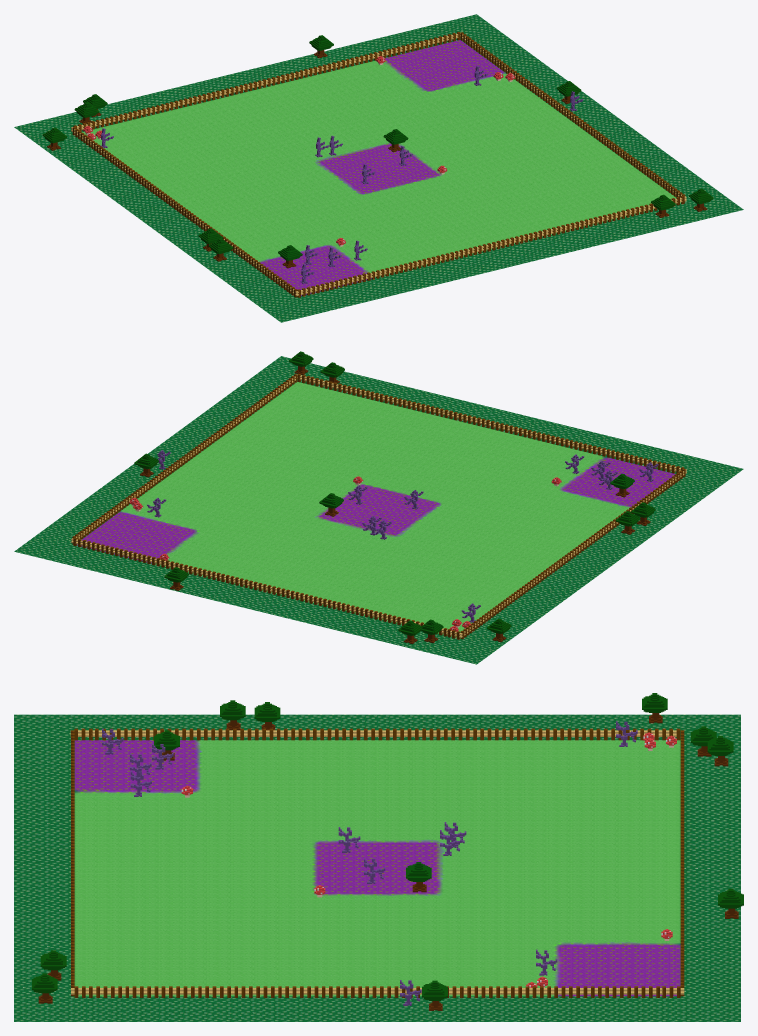
File: Map8.fbx
The picture shows the model from 3 angles, top to bottom: view 1: azimuth 30°, elevation 25°; view 2: azimuth 150°, elevation 25°; view 3: azimuth 270°, elevation 25°; orthographic projection. The views are drawn at different scales.
Parts seen in each view (by area): view 1: pPlane1, fence32; view 2: pPlane1, fence32; view 3: pPlane1, fence32, Tree3, Tree9, Tree7, Tree4, Tree6, Tree10, Tree2, Tree8, Tree1.
Part boxes in pixels (left/top/right/bottom): pPlane1: left=14, top=14, right=743, bottom=322; fence32: left=71, top=31, right=686, bottom=297; pPlane1: left=14, top=356, right=743, bottom=664; fence32: left=71, top=373, right=686, bottom=639; pPlane1: left=14, top=714, right=740, bottom=1021; fence32: left=70, top=728, right=684, bottom=997; Tree3: left=707, top=736, right=733, bottom=766; Tree9: left=32, top=973, right=57, bottom=1003; Tree7: left=406, top=862, right=431, bottom=892; Tree4: left=642, top=693, right=667, bottom=723; Tree6: left=718, top=888, right=743, bottom=918; Tree10: left=422, top=980, right=447, bottom=1010; Tree2: left=220, top=700, right=245, bottom=730; Tree8: left=40, top=950, right=66, bottom=980; Tree1: left=254, top=702, right=280, bottom=730.
Bounding box in the file's own units: 60 × 2.42 × 60.24.
